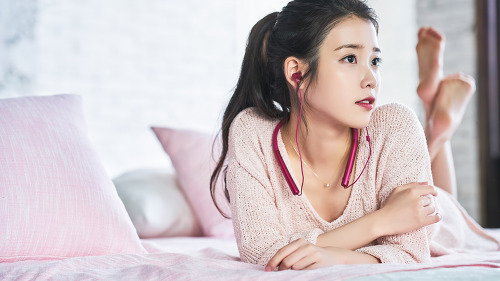earphone: (282, 56, 309, 90)
